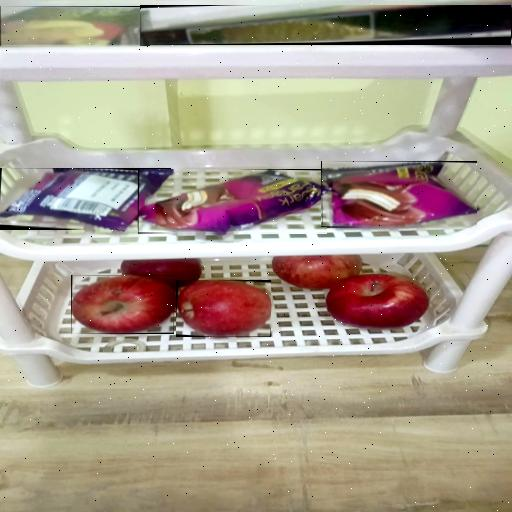Apple: (71, 275, 174, 334), (177, 280, 271, 337)
Choco Fills: (142, 5, 511, 45), (0, 7, 150, 46)
Choco Pie: (139, 170, 327, 233), (0, 169, 171, 229), (322, 163, 477, 227)
